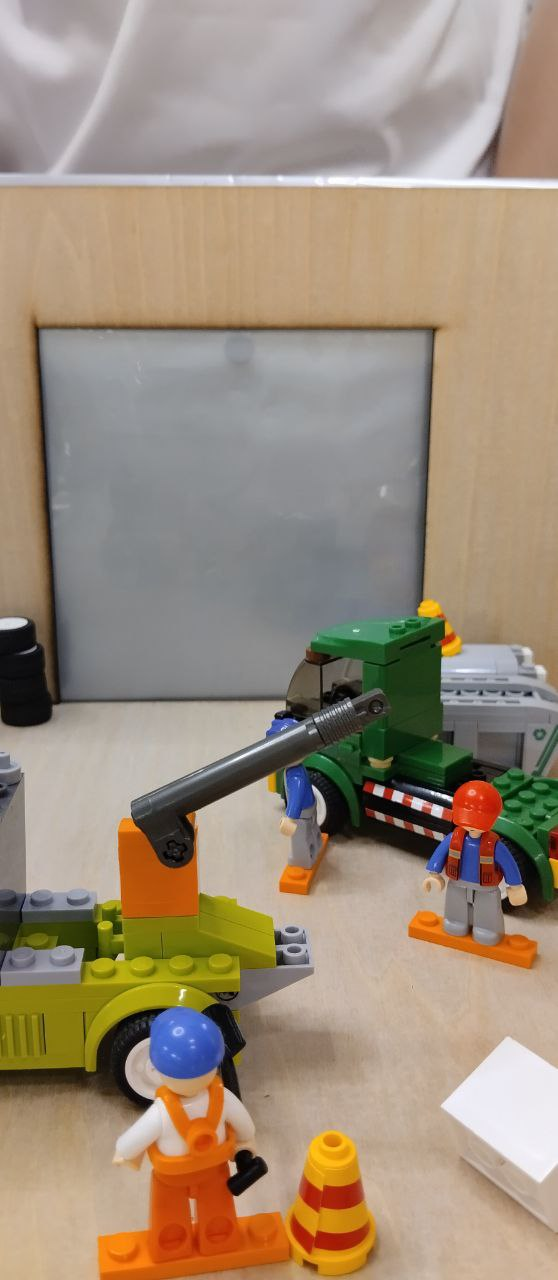Cone: (290, 1128, 375, 1269), (413, 602, 463, 660)
Crane: (0, 690, 383, 1102)
Object white: (436, 1034, 558, 1227)
Truck: (263, 614, 558, 899)
